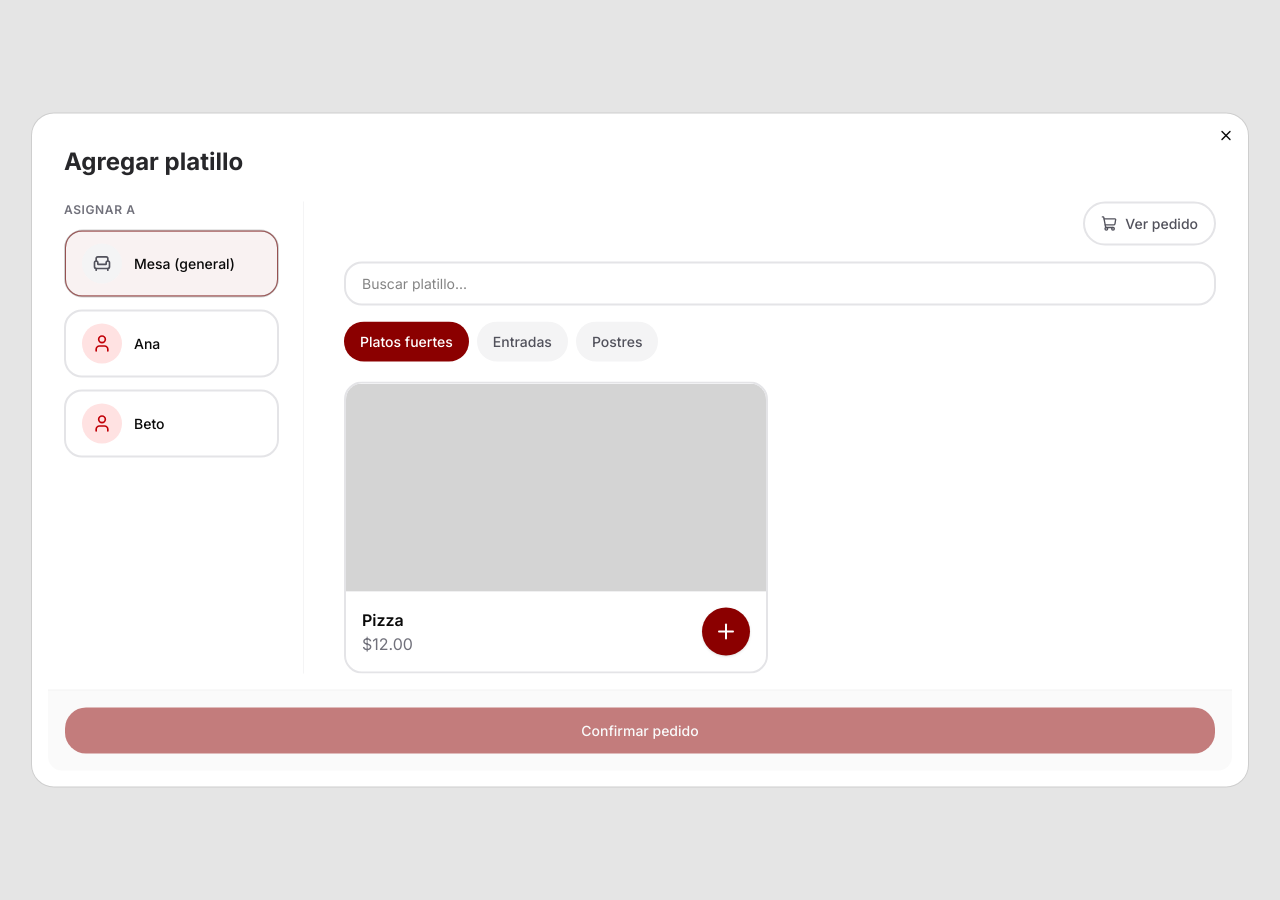
Test: AddItemModal › the "+" button adds an item with no modifiers straight to the active client cart
This screenshot has width=1280, height=900.
expect the text "Pizza" is shown: met, box [362,610,404,630]
Click the button named "Agregar Pizza" at (726,632), box [702,608,750,656]
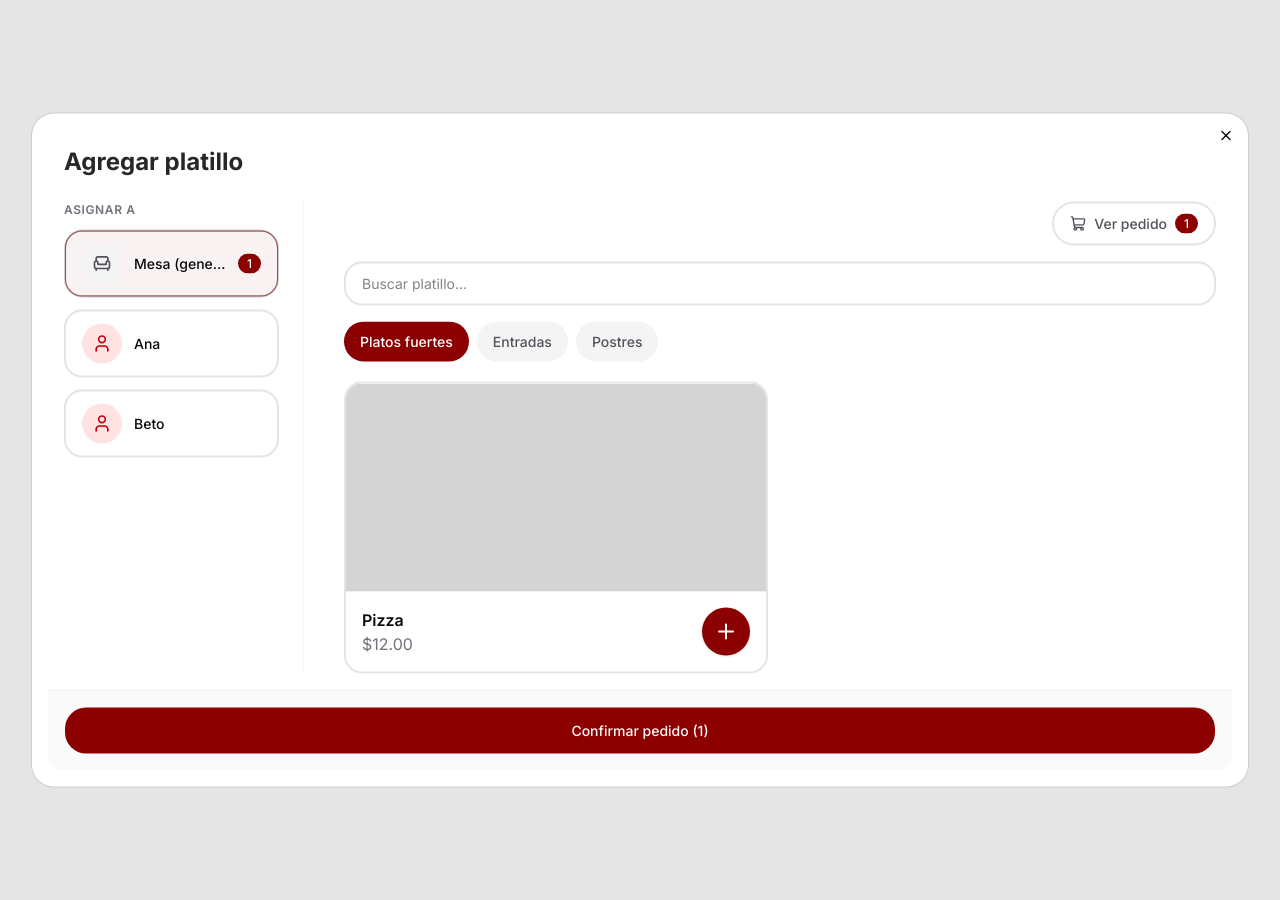
Click the button "Ver pedido 1" at (1134,224), box [1052,202,1216,246]
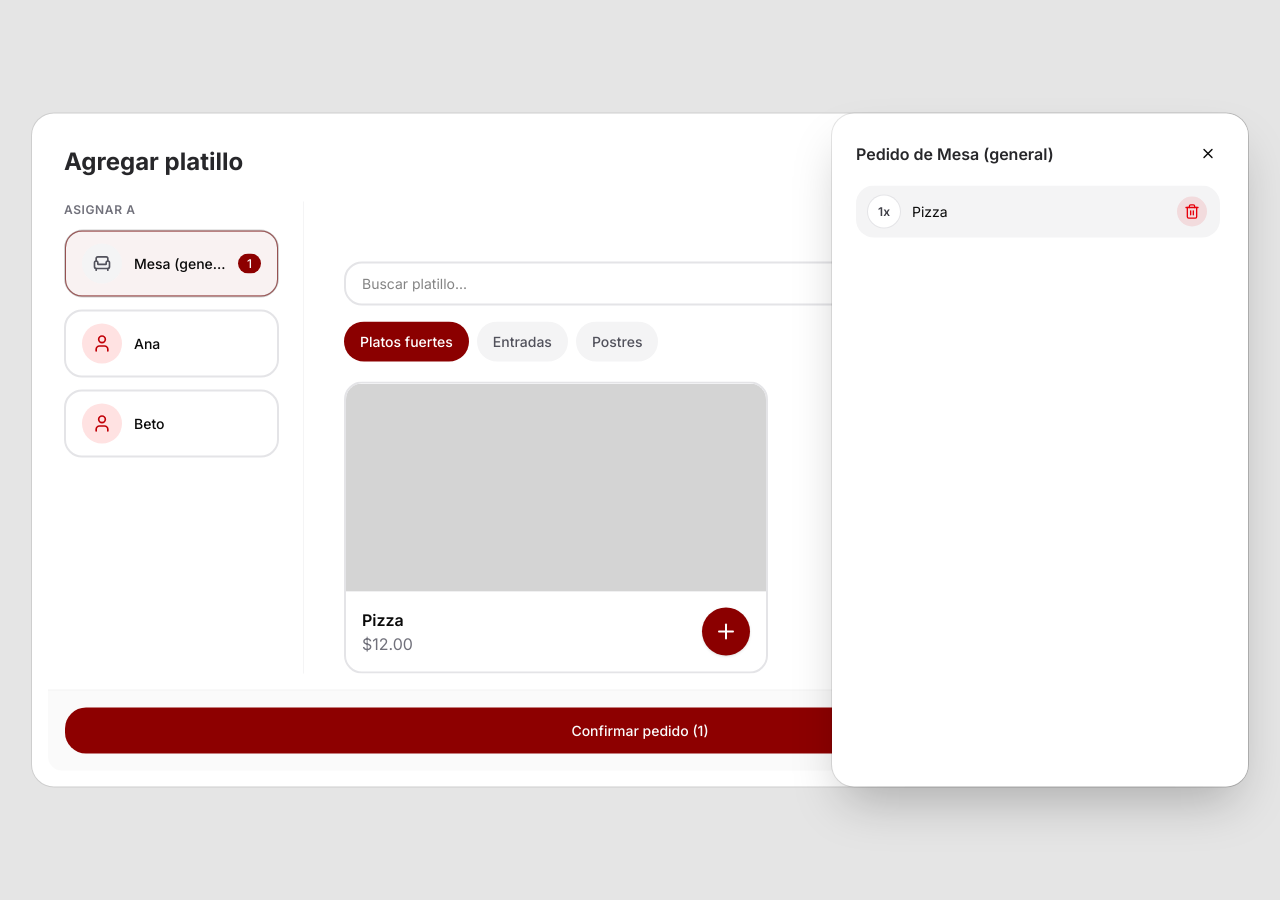
expect the text "Pizza" below "Pedido de Mesa (general)" is shown: met, box [912,202,948,220]
expect the text "1x" is shown: met, box [868,196,900,228]
